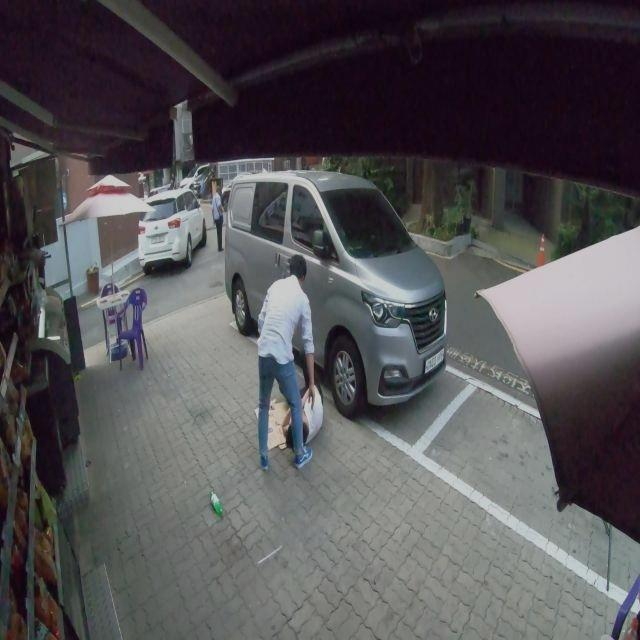fight: (251, 252, 318, 473)
